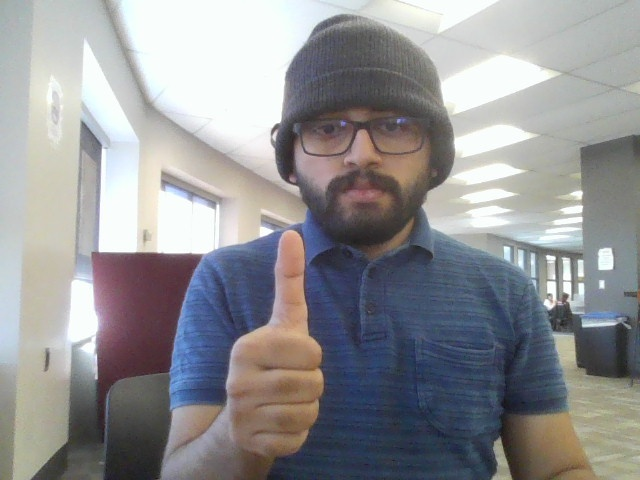start: (224, 221, 335, 480)
